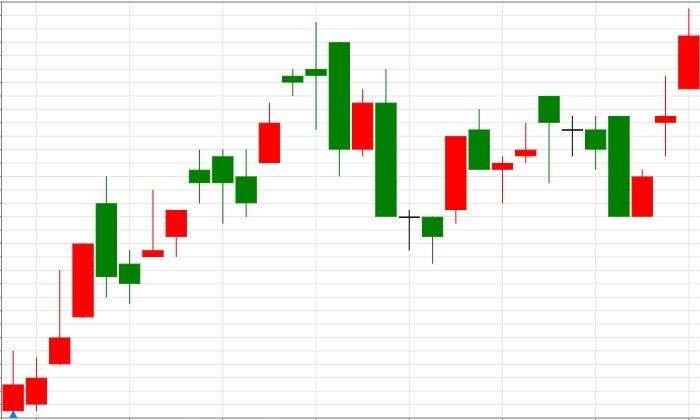hanging_man_fall: (422, 96, 559, 264)
